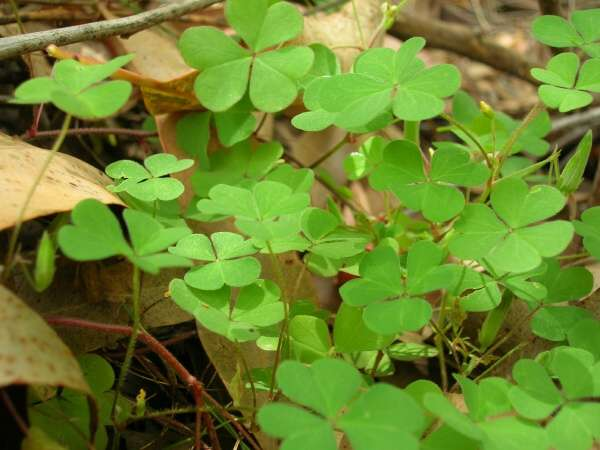oxalis: (142, 213, 330, 372), (279, 360, 593, 446), (369, 160, 571, 282), (111, 5, 329, 112), (330, 243, 477, 352), (338, 23, 450, 151), (518, 14, 600, 109)
